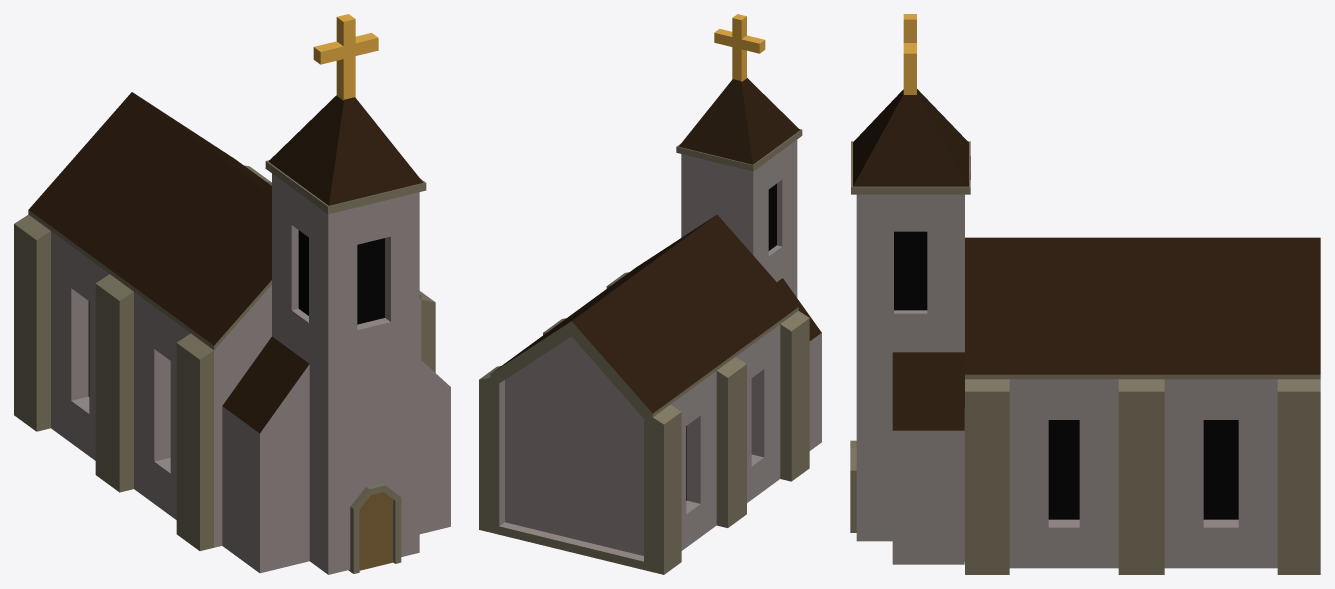
Rendered from church.dae.
The picture shows the model from 3 angles, left to right: view 1: azimuth 30°, elevation 25°; view 2: azimuth 150°, elevation 25°; view 3: azimuth 270°, elevation 25°; orthographic projection. The views are drawn at different scales.
Visible parts, largest first — view 1: Church, Door, Cross; view 2: Church, Cross; view 3: Church, Cross, Door.
Part boxes in pixels (bbox=[...]): Church: bbox=[14, 92, 450, 574]; Door: bbox=[348, 483, 401, 573]; Cross: bbox=[313, 14, 378, 100]; Church: bbox=[479, 78, 821, 574]; Cross: bbox=[714, 14, 765, 81]; Church: bbox=[851, 89, 1320, 574]; Cross: bbox=[903, 14, 916, 94]; Door: bbox=[850, 440, 856, 532].
Bounding box in the file's own units: 16.87 × 30.45 × 36.09.
